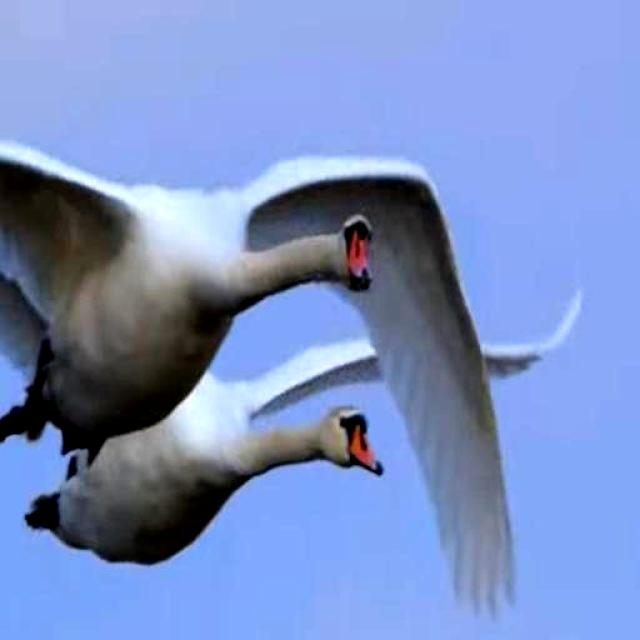airplane: (0, 128, 522, 602), (24, 341, 625, 605)
